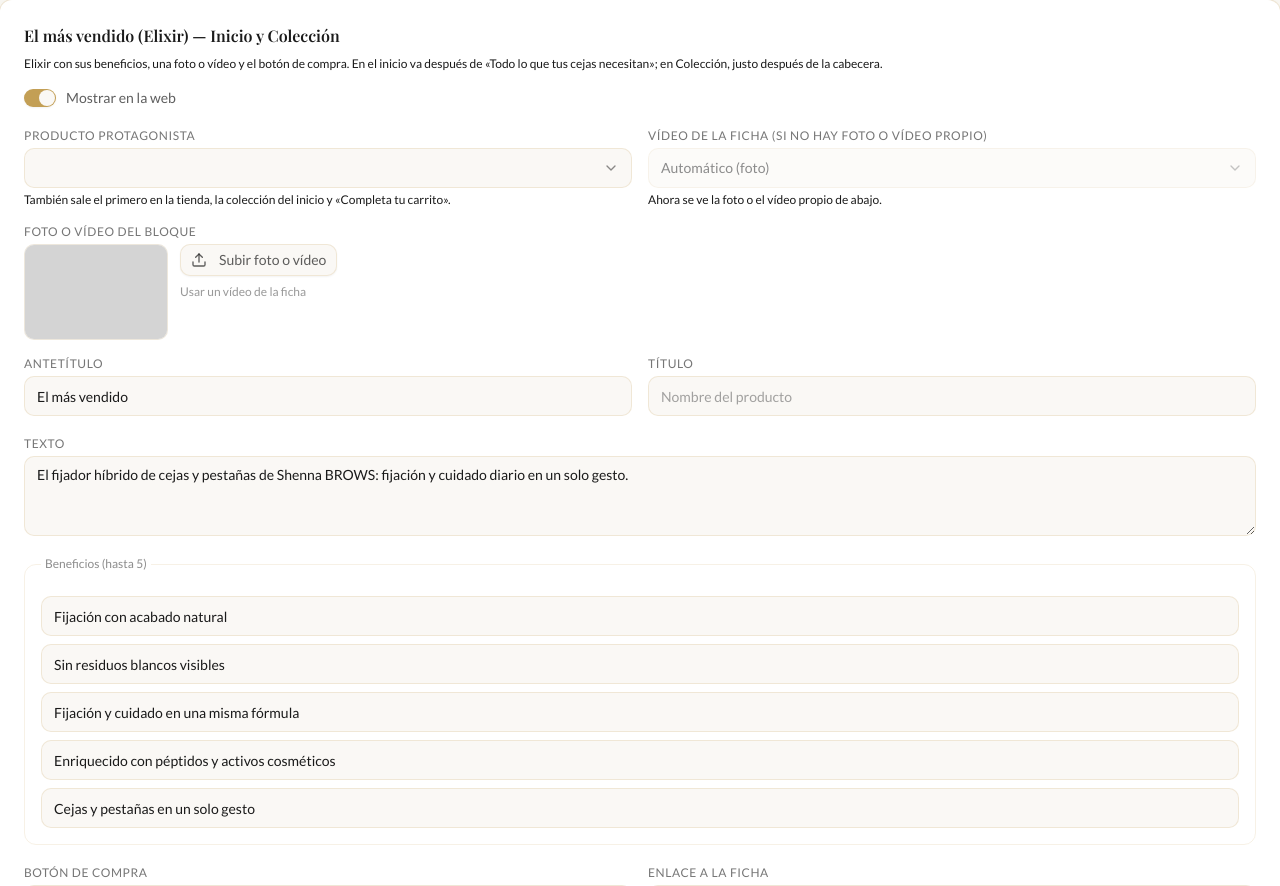
Scenario: editor del producto protagonista › permite subir una foto o un vídeo propio, con el vídeo de la clienta por defecto
Expected: the button "Subir foto o vídeo" is shown, x1=180 y1=244 x2=337 y2=276
Expected: the field showing "El más vendido" below "Antetítulo" is shown, x1=24 y1=376 x2=632 y2=416
Click the button "Usar un vídeo de la ficha" at (243,292), box x1=180 y1=284 x2=306 y2=300
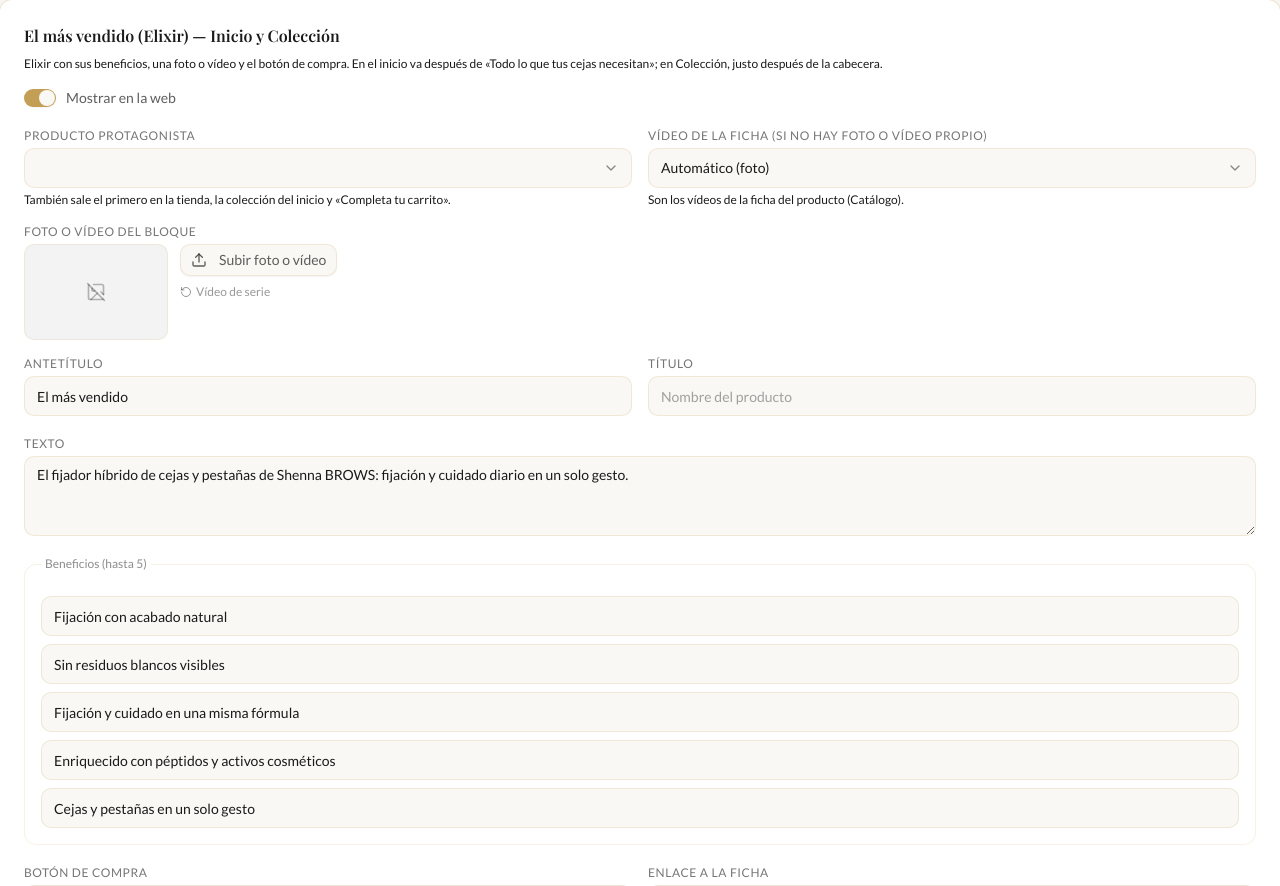
Expected: the dropdown named "Vídeo de demostración" is enabled, x1=648 y1=148 x2=1256 y2=188
